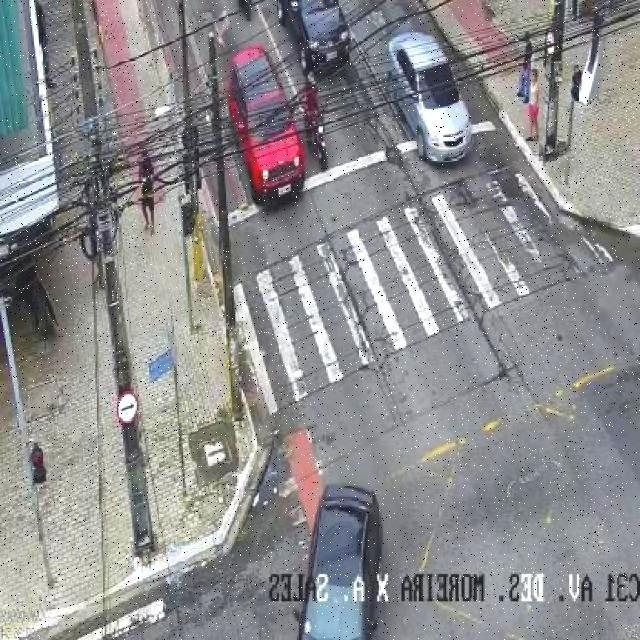Car: (291, 480, 386, 640), (226, 42, 308, 207), (382, 31, 472, 167), (275, 0, 353, 73)
Cycle: (302, 106, 332, 172)
